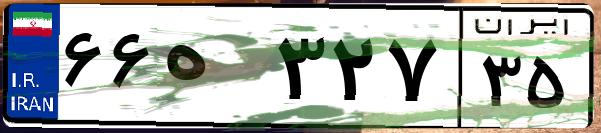2: (330, 28, 385, 110)
3: (270, 28, 330, 110), (475, 38, 525, 113)
5: (525, 38, 570, 115)
6: (57, 26, 110, 100), (110, 28, 158, 98)
7: (385, 28, 445, 110)
ه: (158, 20, 270, 120)
